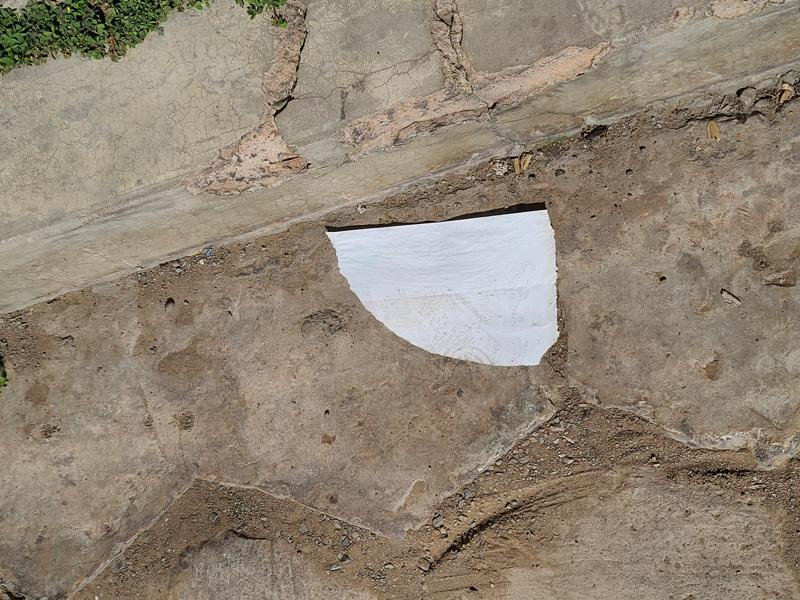papel: (325, 206, 561, 369)
